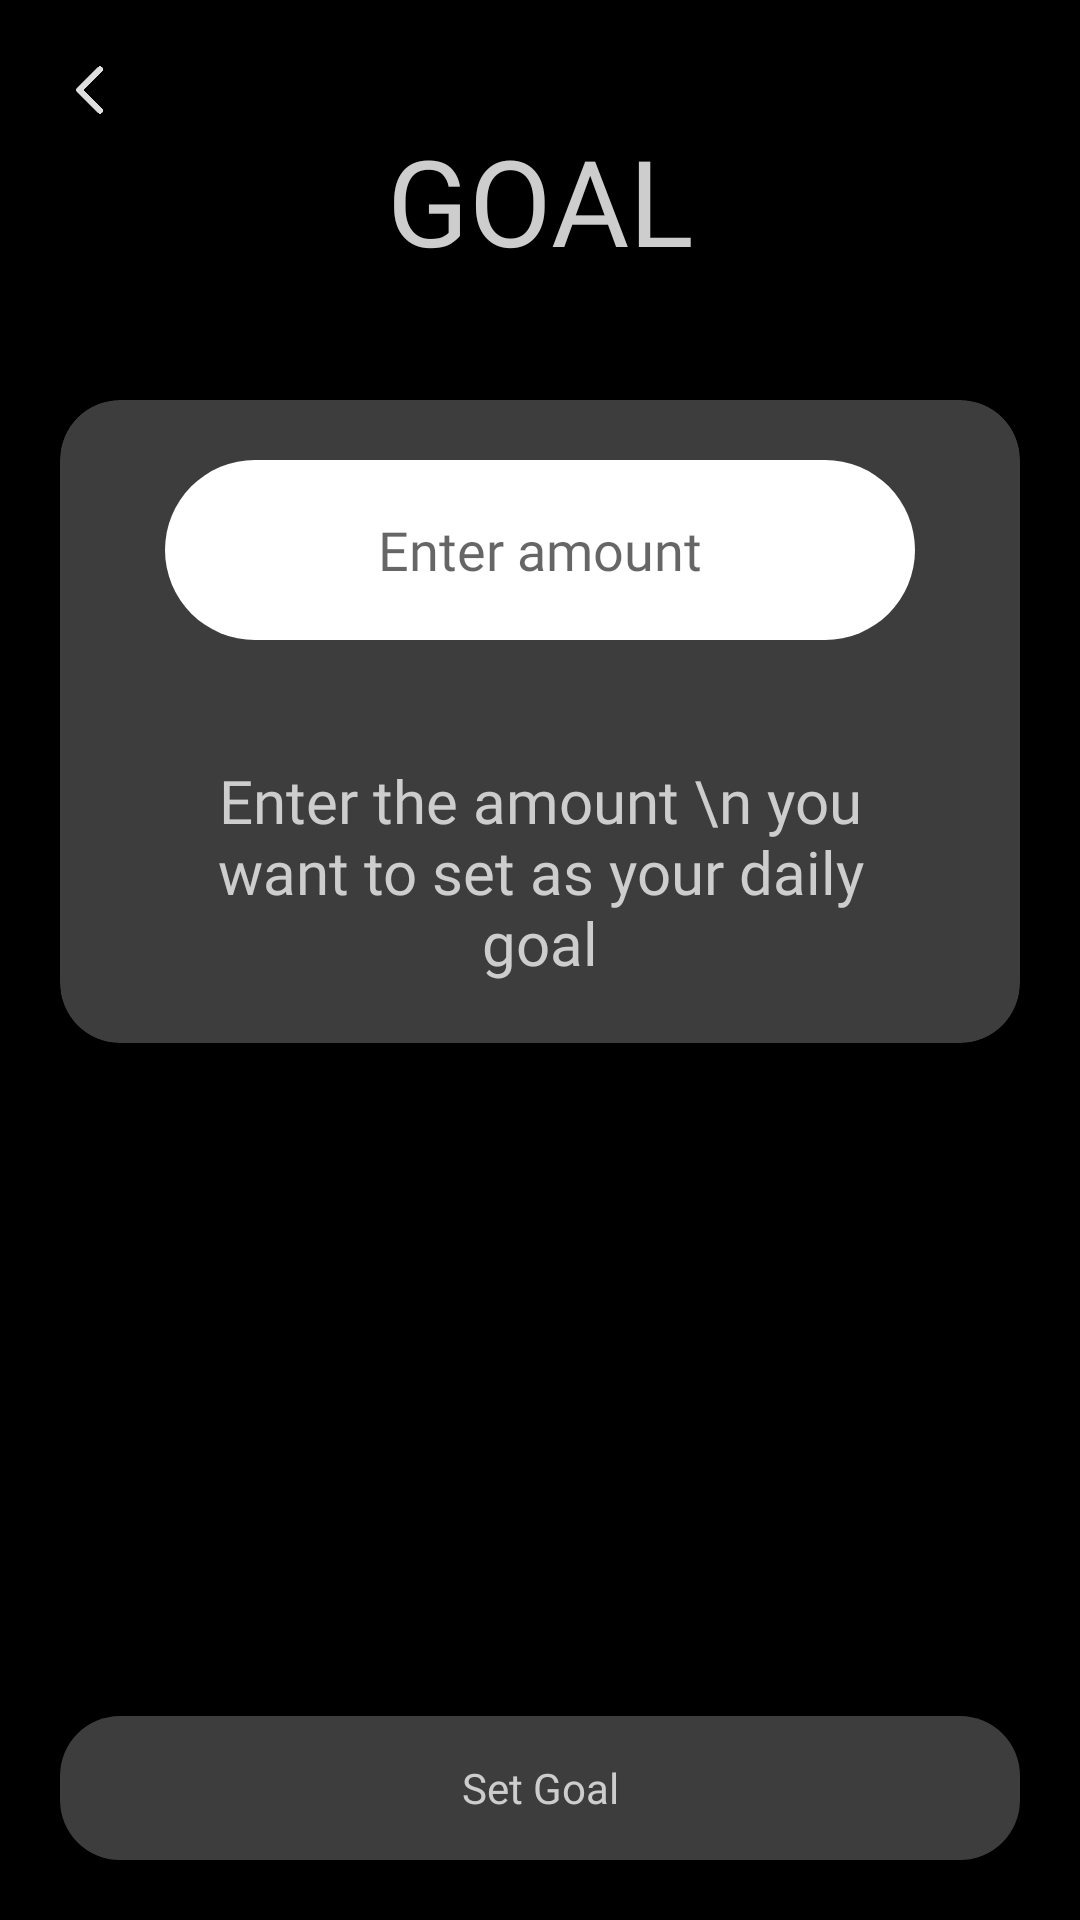

Icons on this 1080 x 1920 Android screen, each with the point to tap as point (x, y):
backb: point (89, 90)
